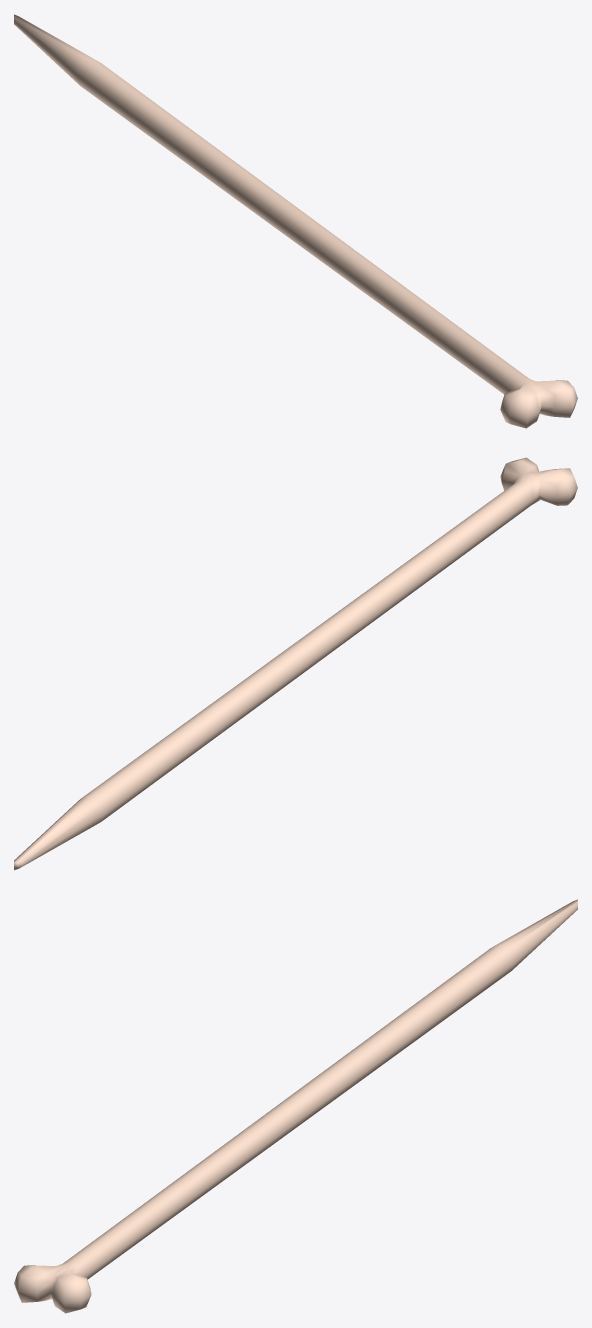
The model's file is BoneArrow.fbx.
The picture shows the model from 3 angles, top to bottom: view 1: azimuth 30°, elevation 25°; view 2: azimuth 150°, elevation 25°; view 3: azimuth 330°, elevation 25°; orthographic projection.
Visible parts, largest first — view 1: BoneArrow; view 2: BoneArrow; view 3: BoneArrow.
Boxes of the visible parts, x1,y1,x2,y2 form: BoneArrow: (14,14,577,428); BoneArrow: (14,457,577,870); BoneArrow: (14,899,577,1313).
Size of the model in its own units: 7.61 by 3.62 by 99.2.
